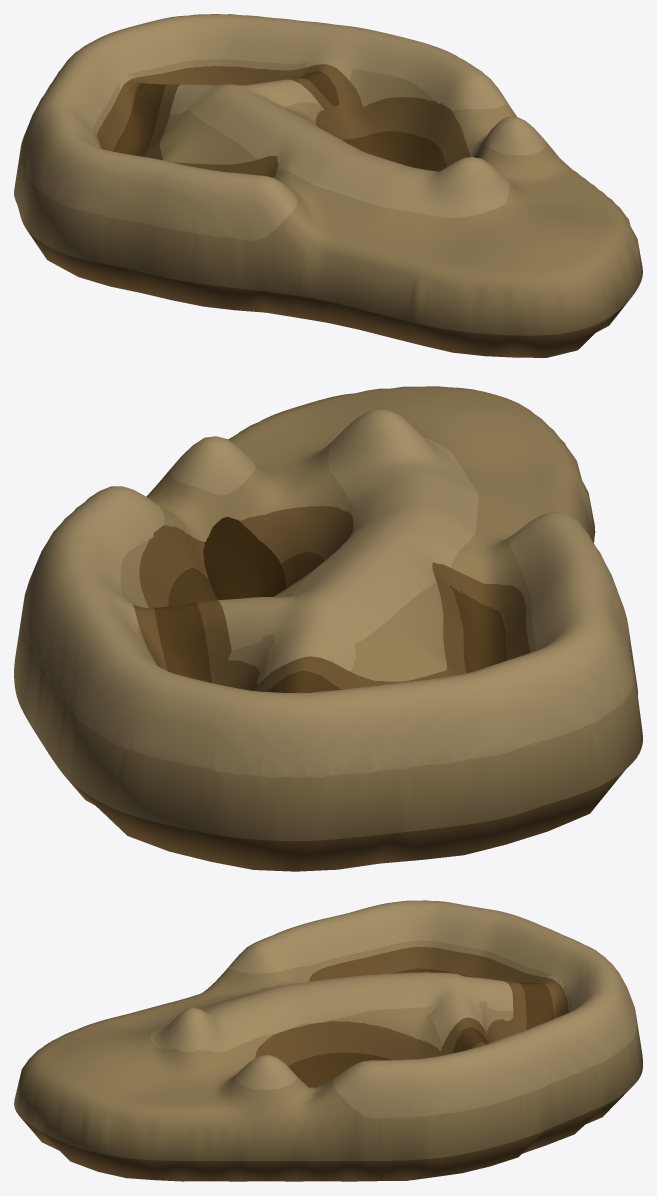
File: ear_left.glb
The picture shows the model from 3 angles, top to bottom: view 1: azimuth 30°, elevation 25°; view 2: azimuth 150°, elevation 25°; view 3: azimuth 270°, elevation 25°; orthographic projection. The views are drawn at different scales.
Visible parts, largest first — view 1: ear; view 2: ear; view 3: ear.
Part boxes in pixels (bbox=[...]): ear: bbox=[14, 14, 642, 357]; ear: bbox=[14, 386, 642, 871]; ear: bbox=[14, 900, 642, 1181].
Size of the model in its own units: 18.4 by 5.95 by 25.27.
